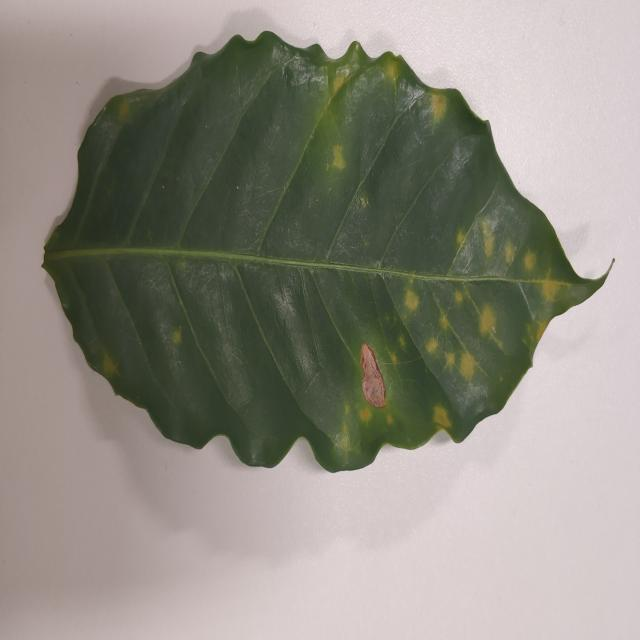Enfermedad-Roya: (40, 31, 610, 476)
